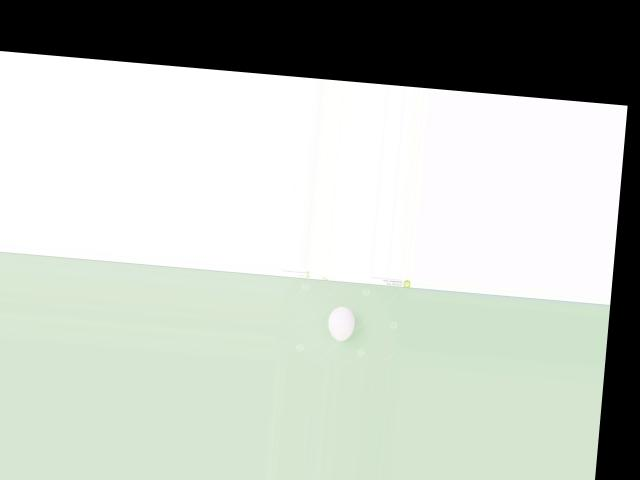egg: (326, 305, 356, 341)
